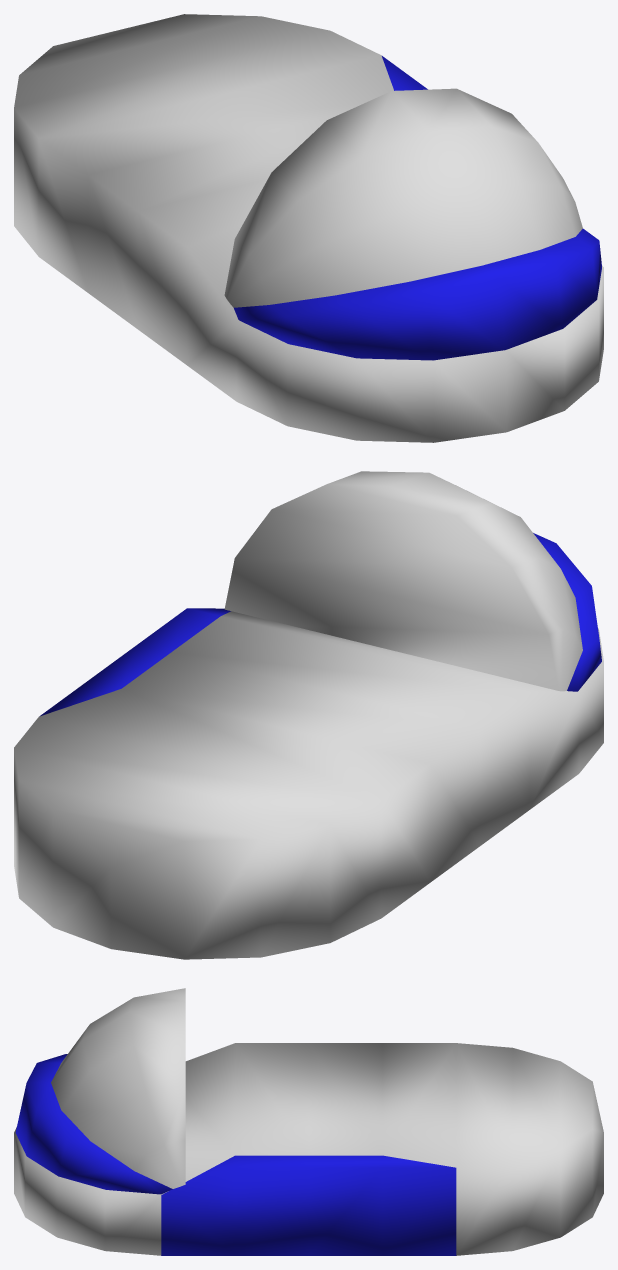
Rendered from lfoot.obj.
3 renders of one model, top to bottom at view 1: azimuth 30°, elevation 25°; view 2: azimuth 150°, elevation 25°; view 3: azimuth 270°, elevation 25°, orthographic. The views are drawn at different scales.
Visible parts, largest first — view 1: foot.002_Sphere.002; view 2: foot.002_Sphere.002; view 3: foot.002_Sphere.002.
Boxes of the visible parts, x1,y1,x2,y2 form: foot.002_Sphere.002: (14,14,603,442); foot.002_Sphere.002: (14,471,603,959); foot.002_Sphere.002: (14,988,603,1255).
Size of the model in its own units: 0.088 by 0.0631 by 0.176.
